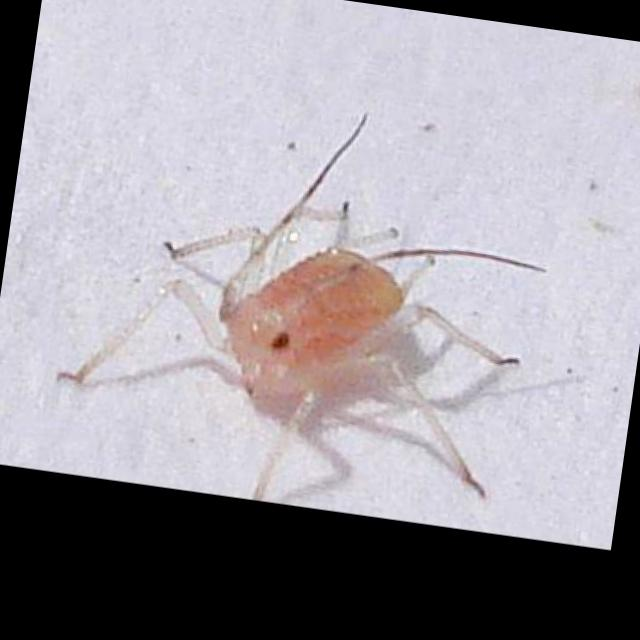Aphid: (37, 64, 589, 536)
